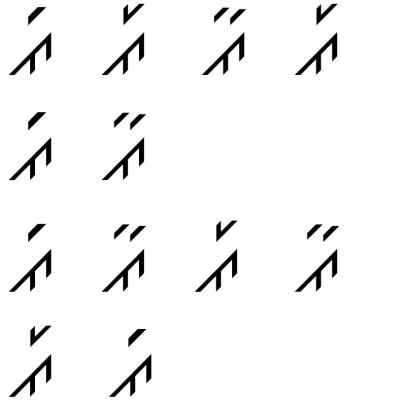kan: (94, 101, 150, 190), (291, 219, 346, 296), (200, 3, 250, 83), (100, 221, 150, 300)
kang: (1, 105, 60, 187), (101, 321, 159, 399), (8, 3, 60, 84), (6, 220, 55, 296)
kar: (195, 209, 252, 296), (286, 2, 345, 84), (94, 2, 156, 78), (3, 323, 59, 400)
